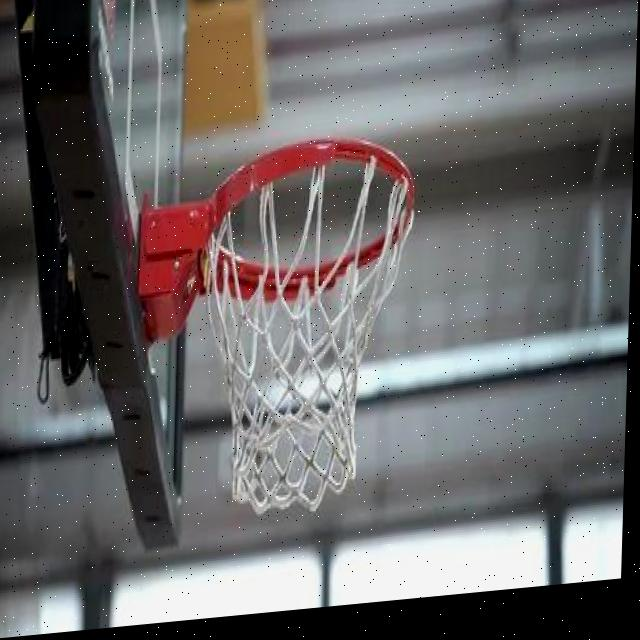hoop: (167, 126, 431, 546)
